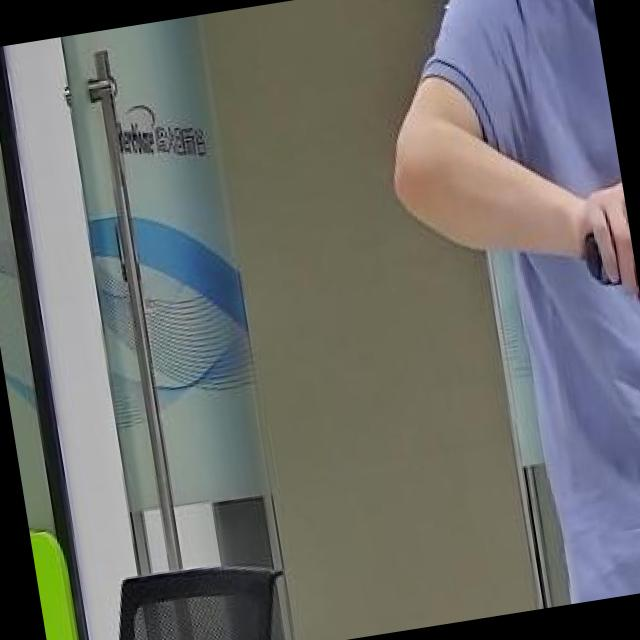Guns: (569, 195, 640, 334)
